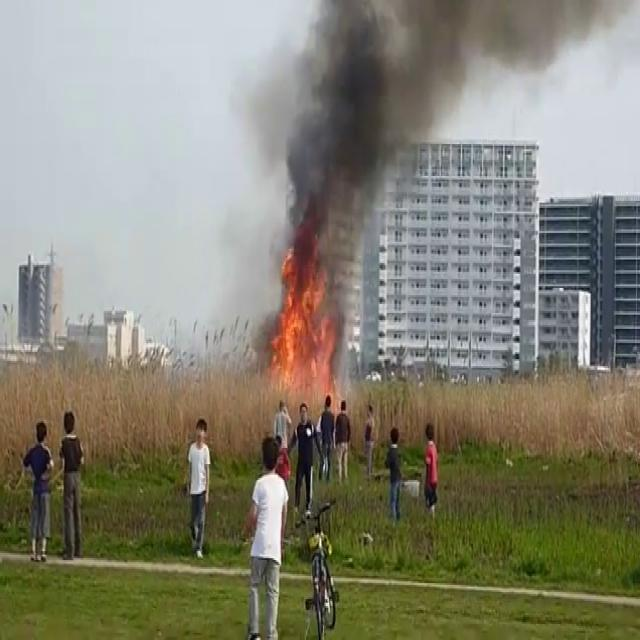Fire: (262, 252, 340, 403)
Smoke: (259, 1, 472, 282)
